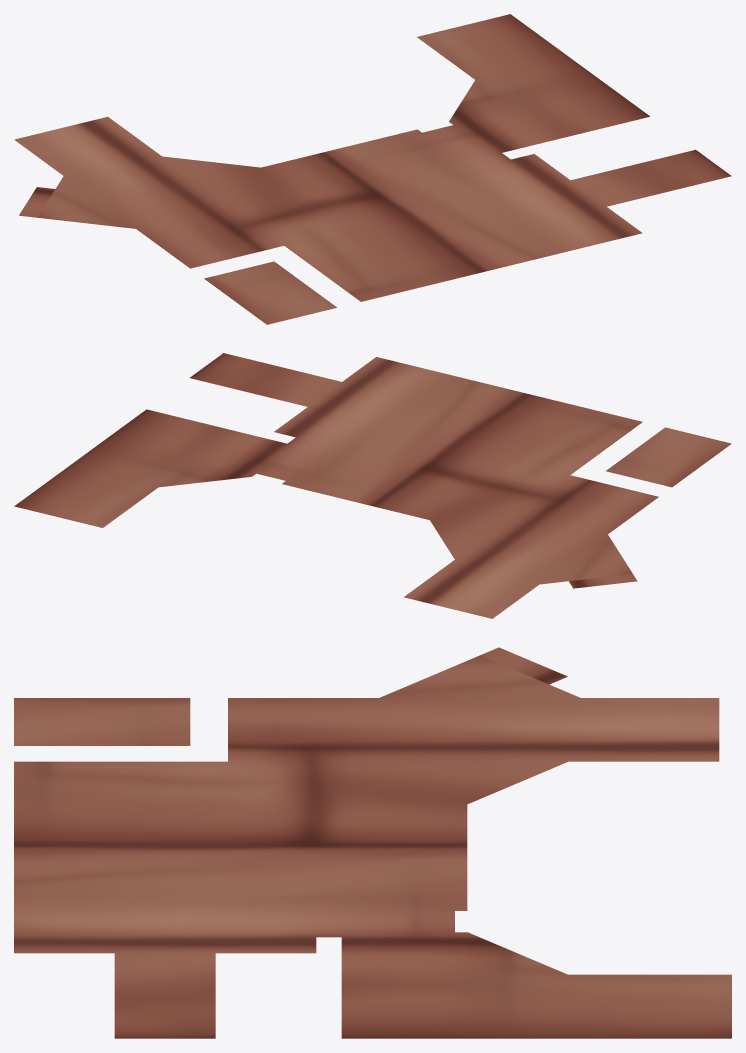
Rendered from map03_stlt02_1.obj.
The picture shows the model from 3 angles, top to bottom: view 1: azimuth 30°, elevation 25°; view 2: azimuth 150°, elevation 25°; view 3: azimuth 270°, elevation 25°; orthographic projection. The views are drawn at different scales.
Visible parts, largest first — view 1: F_STLT02.1; view 2: F_STLT02.1; view 3: F_STLT02.1.
Boxes of the visible parts, x1,y1,x2,y2 form: F_STLT02.1: (14, 14, 731, 324); F_STLT02.1: (14, 353, 731, 618); F_STLT02.1: (14, 647, 731, 1038).
Size of the model in its own units: 5880 by 0 by 4560.
